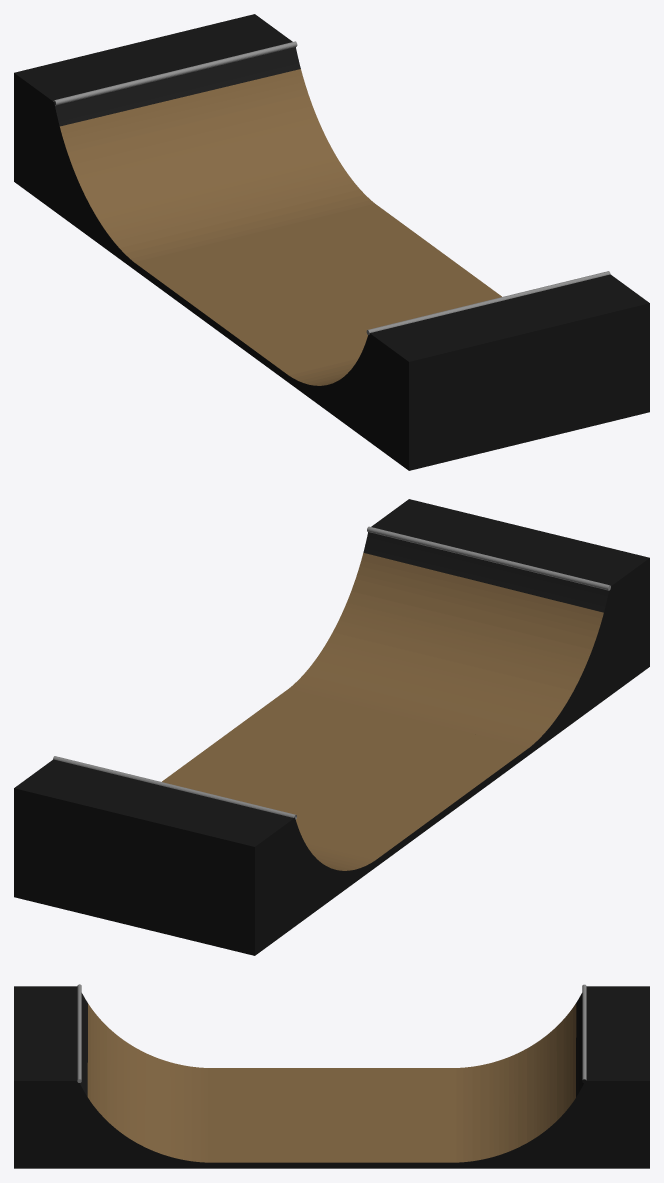
The model's file is HalfPipe.fbx.
3 views of the same model, one above another, from view 1: azimuth 30°, elevation 25°; view 2: azimuth 150°, elevation 25°; view 3: azimuth 270°, elevation 25° (orthographic). The views are drawn at different scales.
Visible parts, largest first — view 1: HalfPipe; view 2: HalfPipe; view 3: HalfPipe.
Part boxes in pixels (x1,y1,x2,y2): HalfPipe: [14, 14, 649, 470]; HalfPipe: [14, 499, 649, 955]; HalfPipe: [14, 984, 649, 1168].
Size of the model in its own units: 1624 by 714 by 4600.
